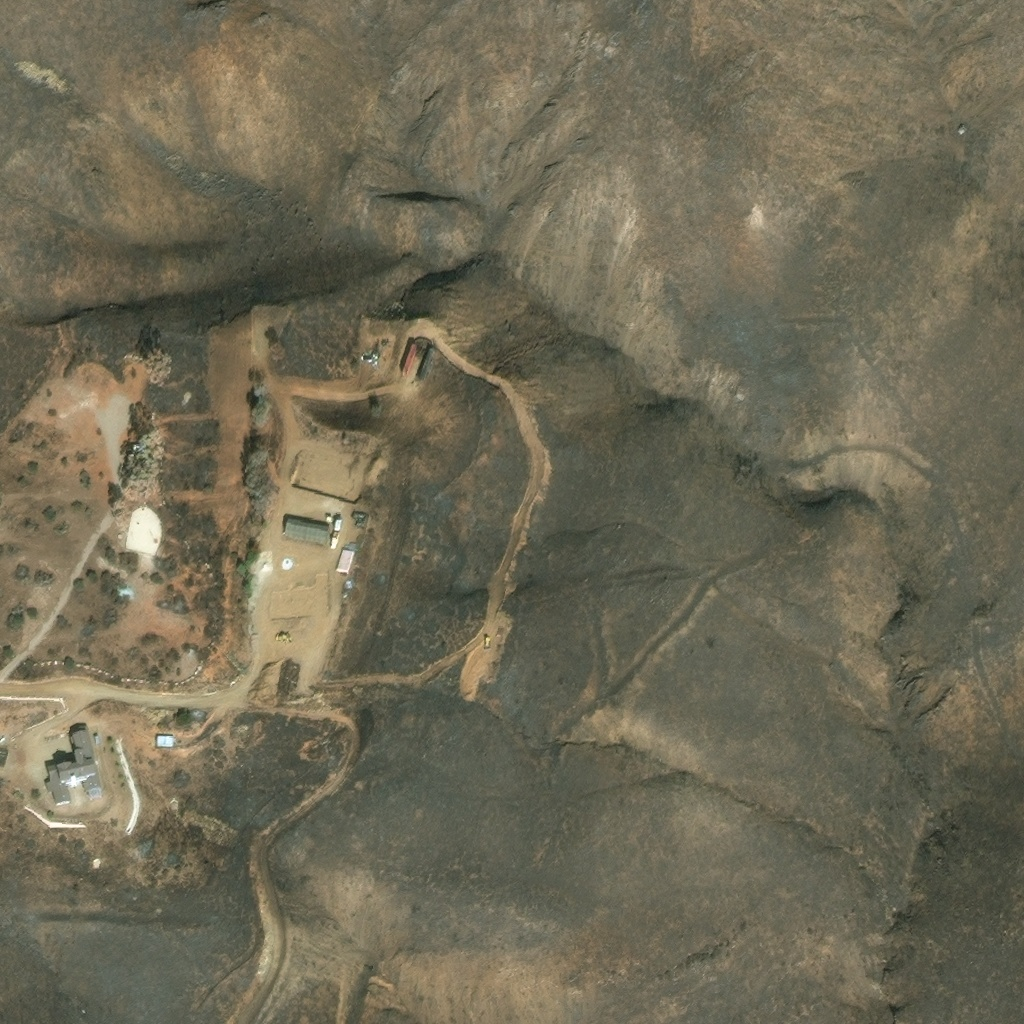0 no-damage: (44, 726, 103, 809), (283, 518, 329, 547), (417, 351, 435, 384), (401, 346, 418, 377), (335, 552, 354, 577), (156, 737, 173, 747), (337, 526, 347, 542), (282, 558, 294, 571), (957, 124, 965, 131)
3 destroyed: (376, 333, 392, 363)
